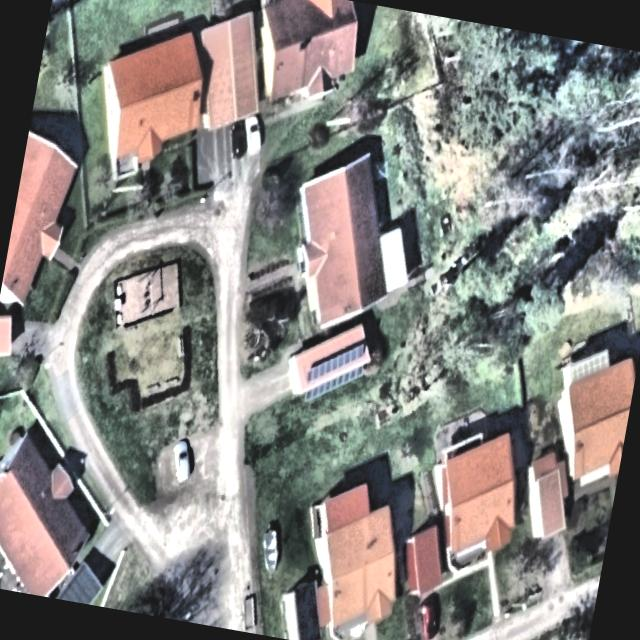roof_pv: (295, 324, 373, 411)
